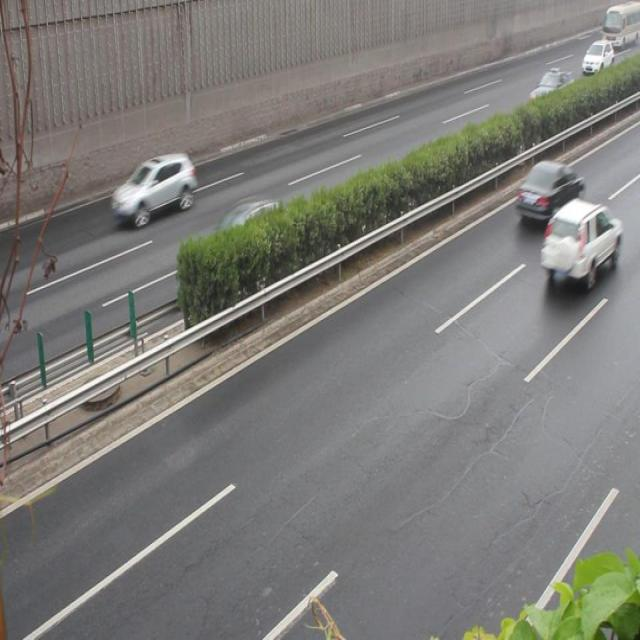car: (540, 198, 622, 286), (205, 195, 292, 274), (115, 152, 197, 225), (516, 158, 587, 222)
